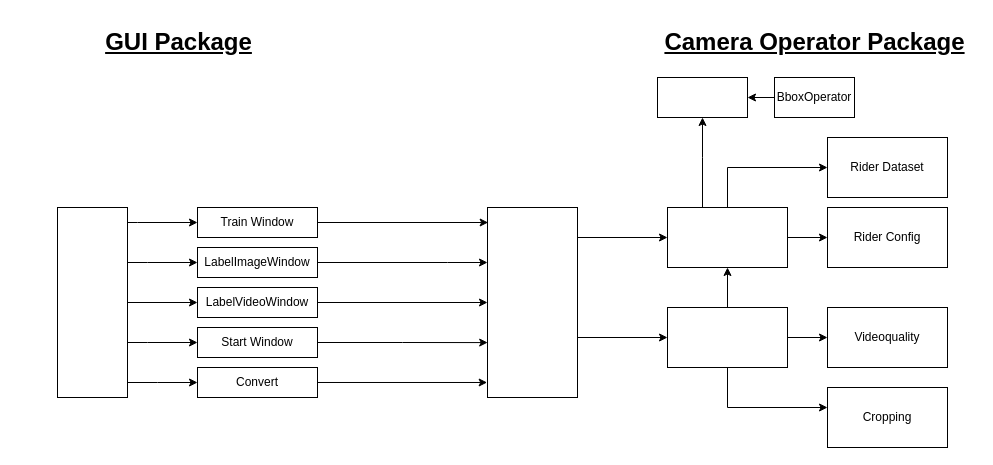
The diagram is 993 pixels wide and 465 high, and some of its shapes have lost their labels. Each missing label, with the centre of its shape:
BoundingBox: pixel 702 97
Main Window: pixel 92 302
Operator: pixel 532 302
Riderdetector: pixel 727 237
VideoProcessing: pixel 727 337
